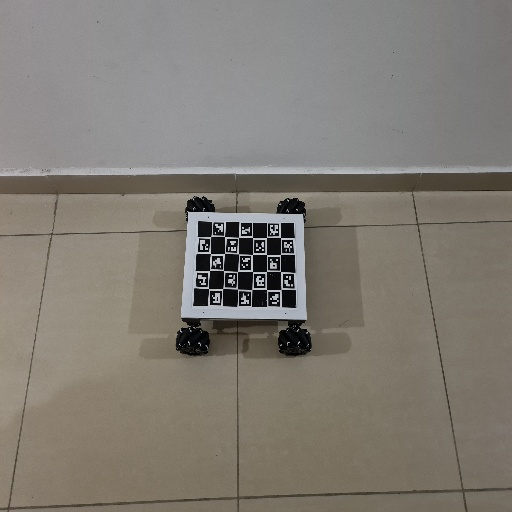Omniwheel: (174, 195, 313, 360)
